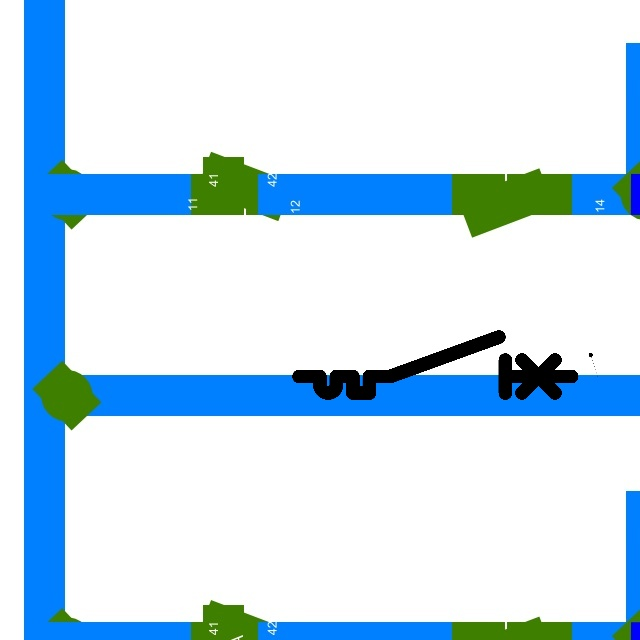interruptor_termomagnetico: (292, 330, 578, 400)
